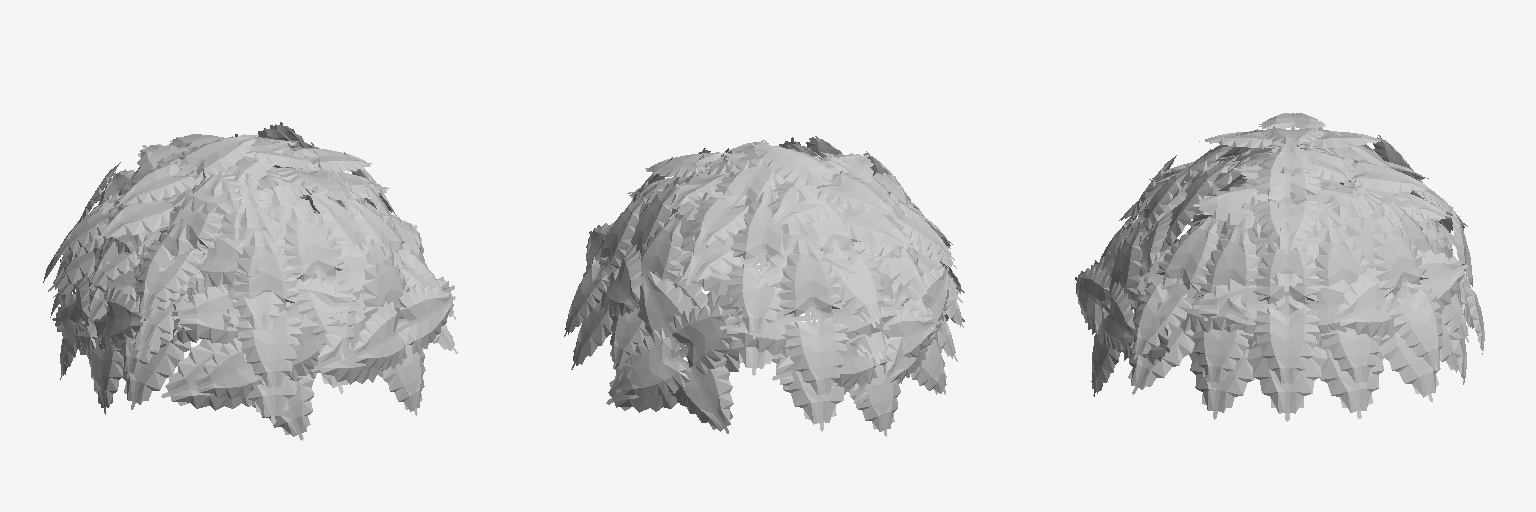
Rendered from obj_lemonBalm.obj.
3 renders of one model, left to right at view 1: azimuth 30°, elevation 25°; view 2: azimuth 150°, elevation 25°; view 3: azimuth 270°, elevation 25°, orthographic.
Parts seen in each view (by area): view 1: lemonBalm_Plane.006; view 2: lemonBalm_Plane.006; view 3: lemonBalm_Plane.006.
Part boxes in pixels (x1,y1,x2,y2): lemonBalm_Plane.006: (43, 122, 457, 440); lemonBalm_Plane.006: (564, 136, 964, 436); lemonBalm_Plane.006: (1075, 113, 1484, 421).
Size of the model in its own units: 0.6005 by 0.3856 by 0.626.